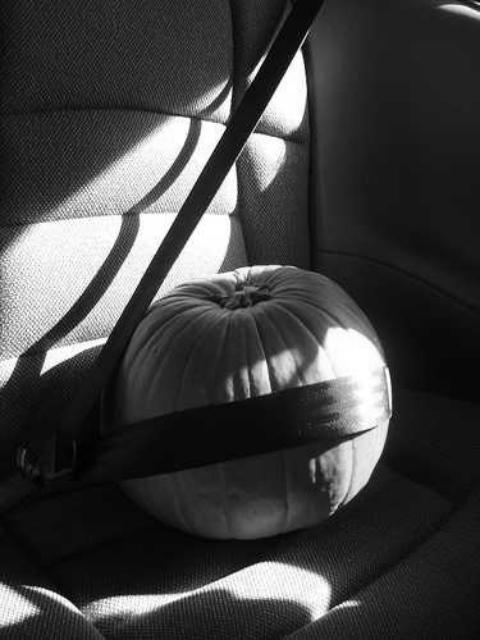Seatbelt: (17, 0, 397, 488)
